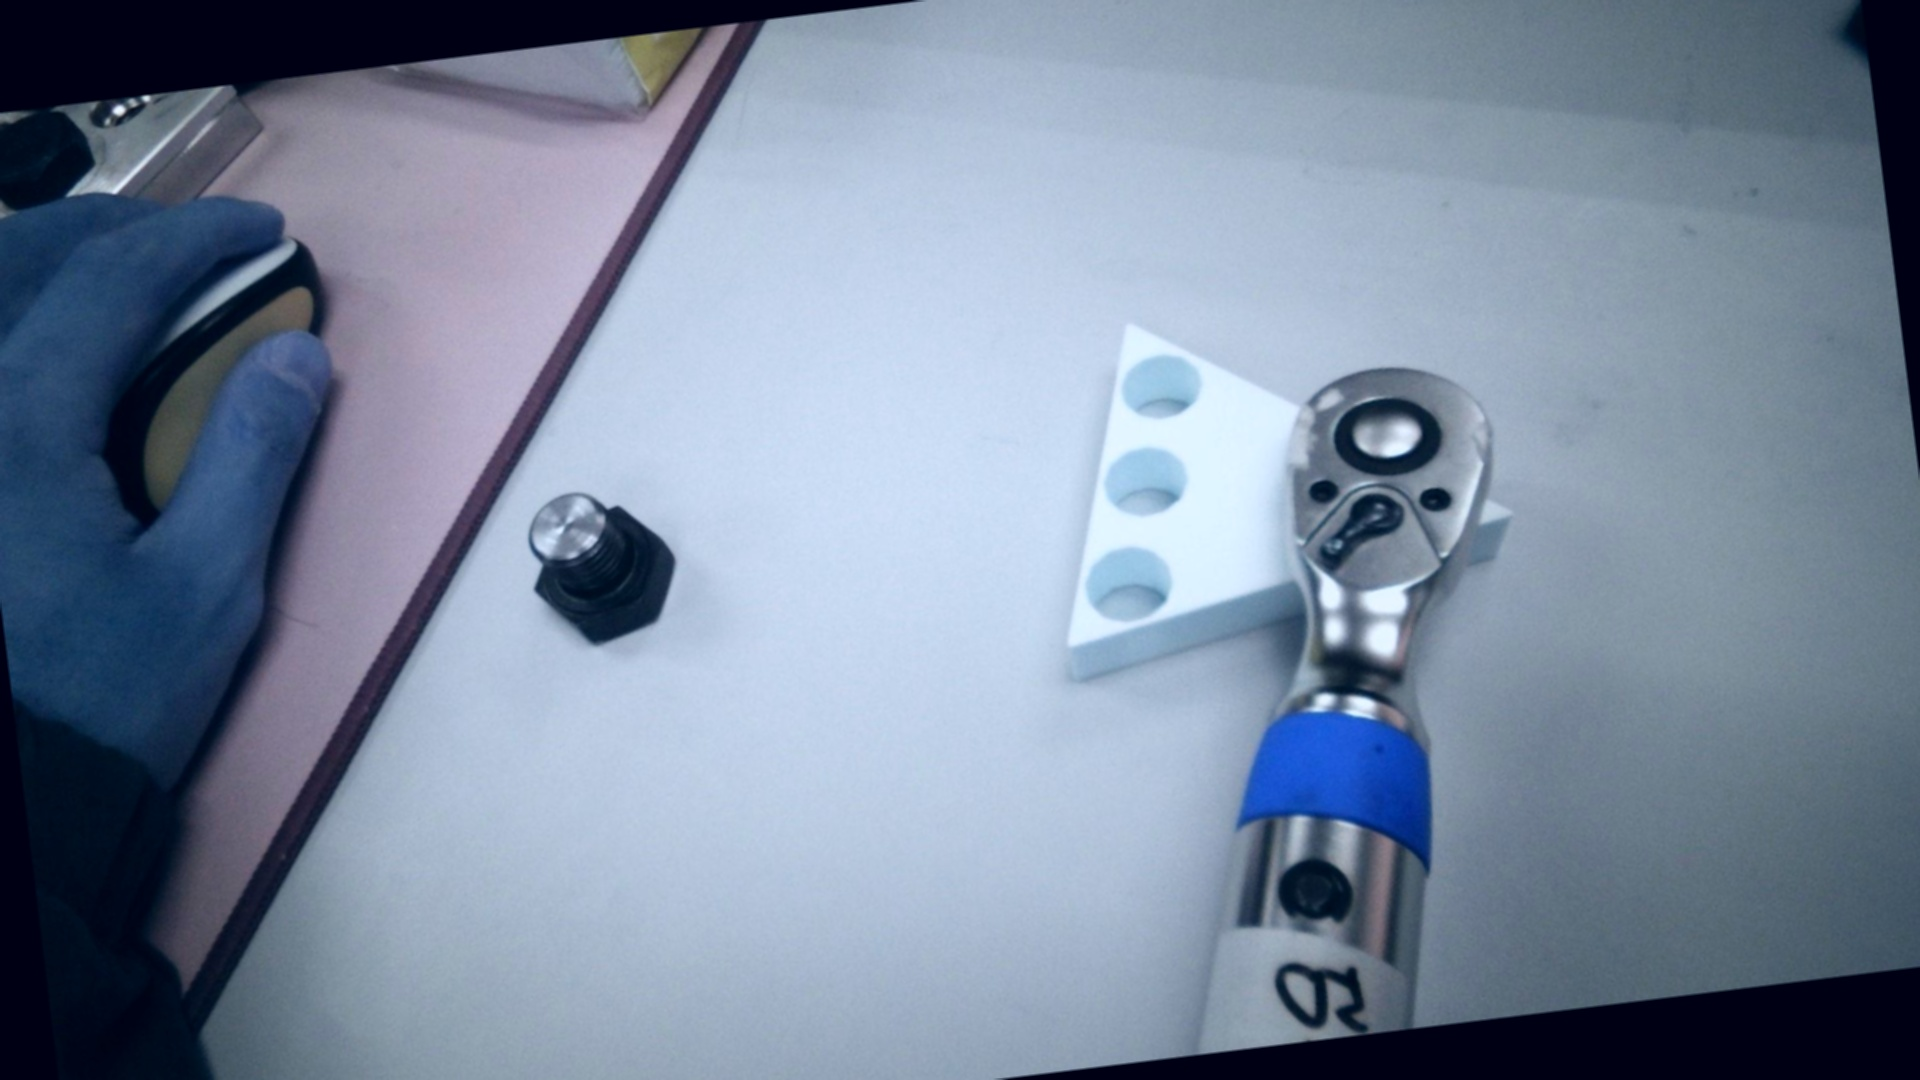hole: (1079, 541, 1176, 622), (1098, 443, 1189, 521), (1116, 349, 1205, 422)
obj: (1029, 278, 1527, 688)
wrench: (1329, 392, 1447, 483)
